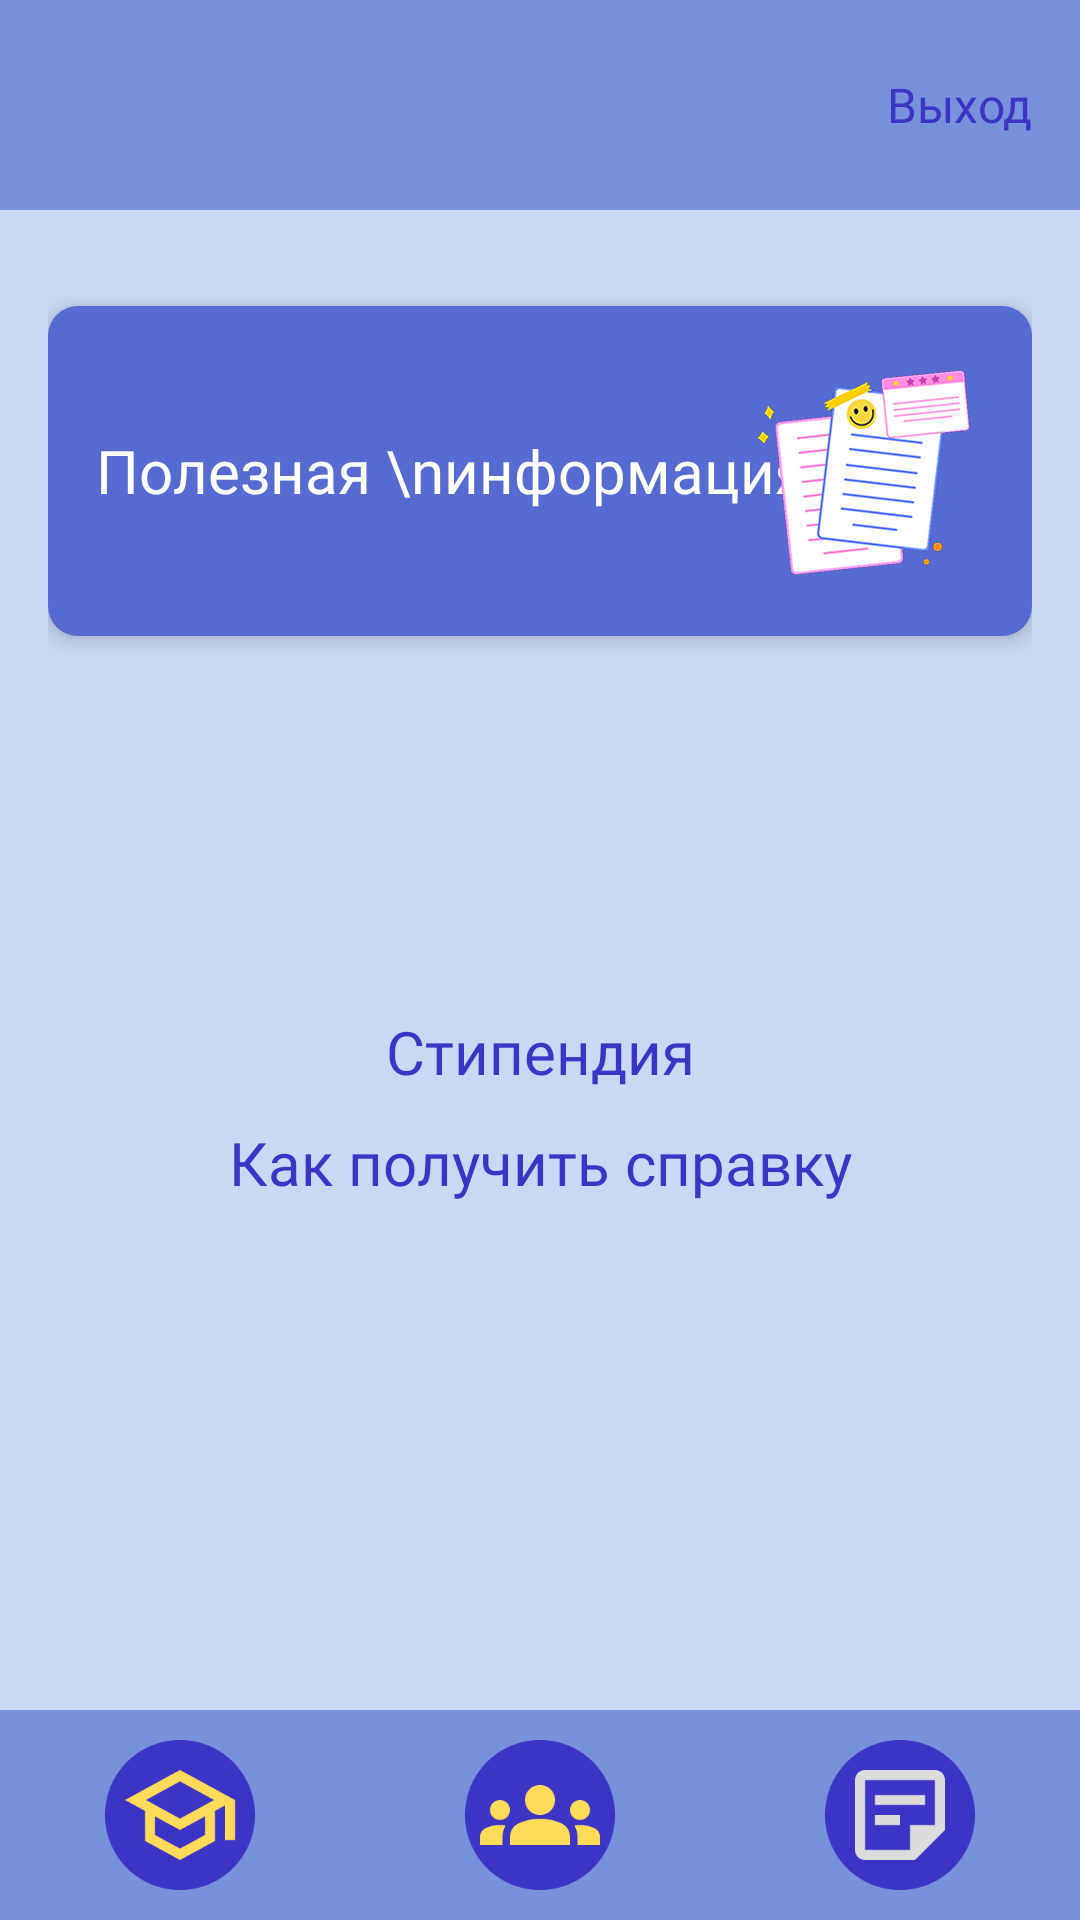

Named icons in this screenshot (1080px x 1920px) and their bounding boxes, (x1, y1, x2, y2):
peop: (465, 1740, 615, 1890)
